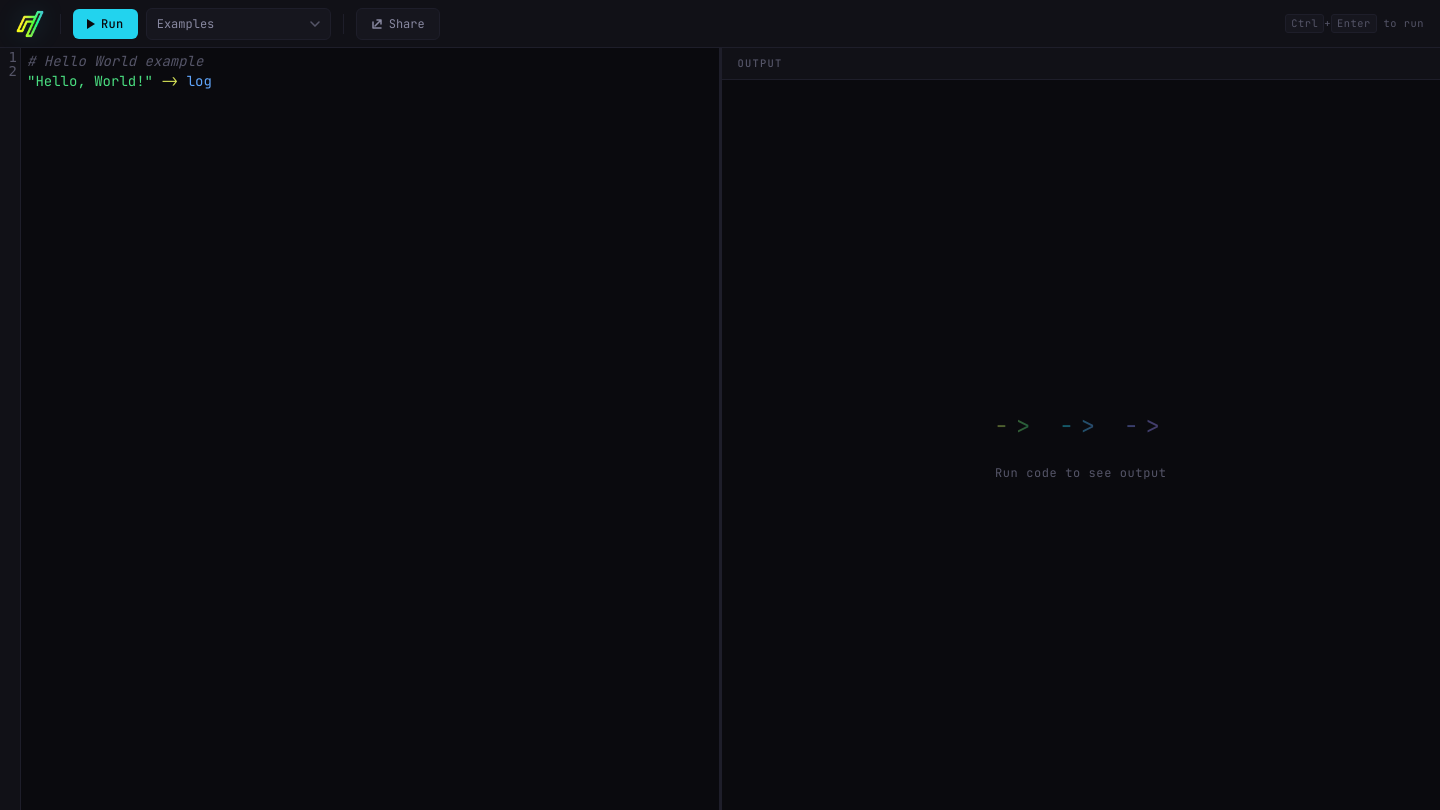
Test: App › error handling › running valid code after error clears error display
This screenshot has width=1440, height=810.
Click the button with class "toolbar-run": click(105, 24) [73,8,138,38]
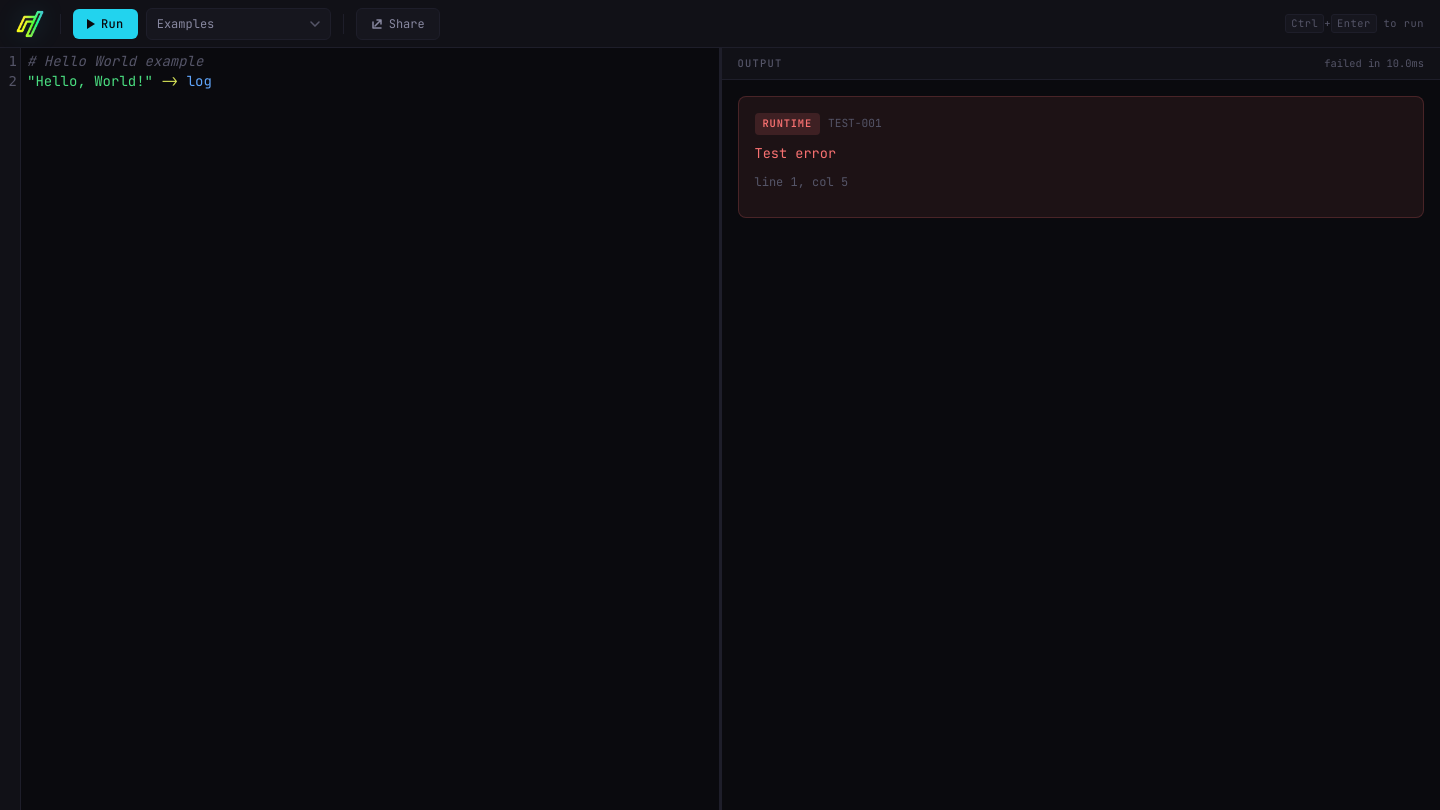
Click the button with class "toolbar-run": click(105, 24) [73,8,138,38]
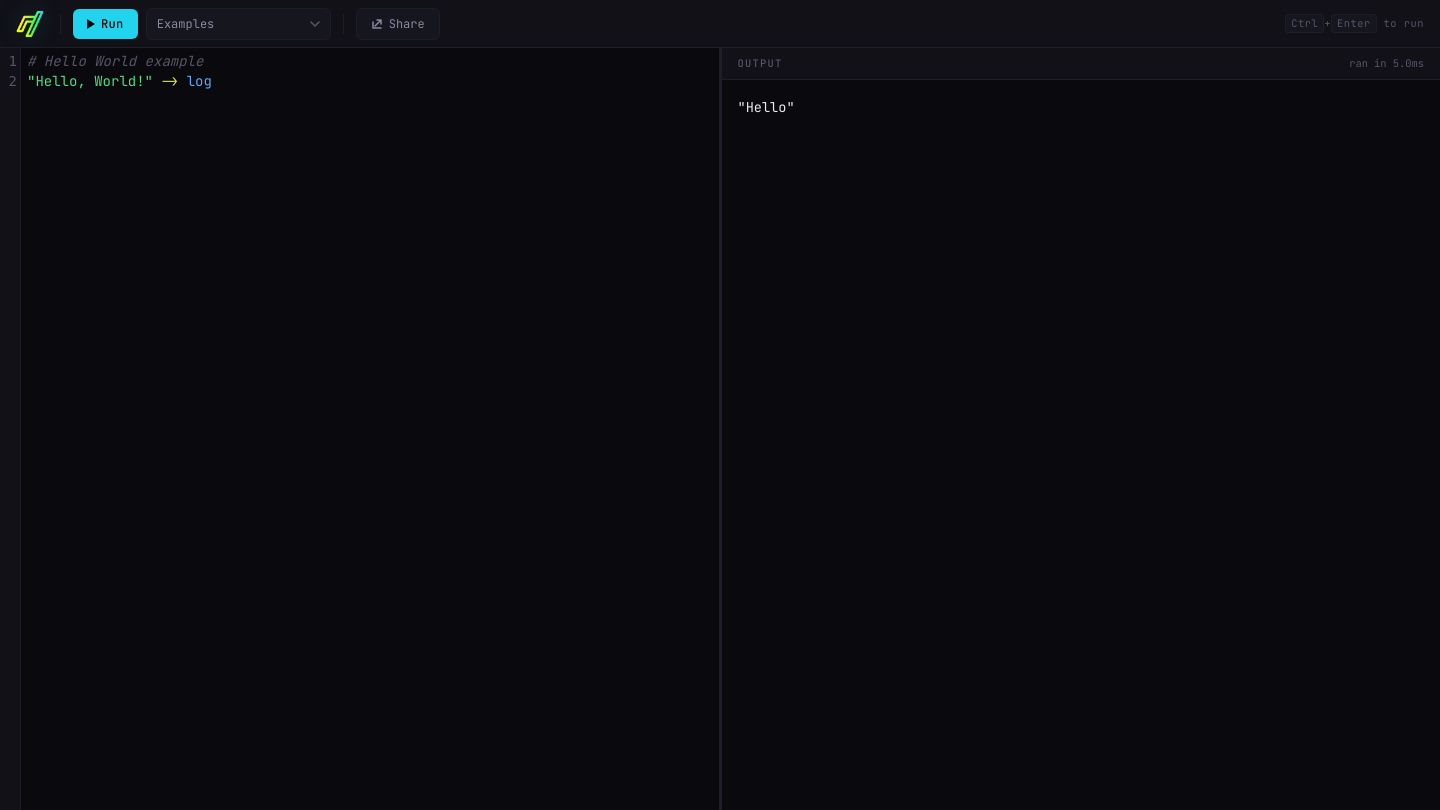
expect the message with class "output-error" is gone: met
